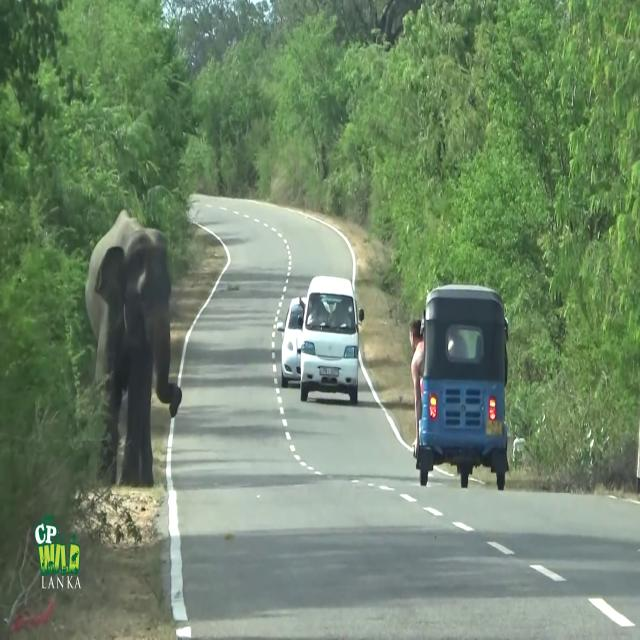Elephant: (84, 208, 182, 488)
person: (409, 317, 424, 458)
